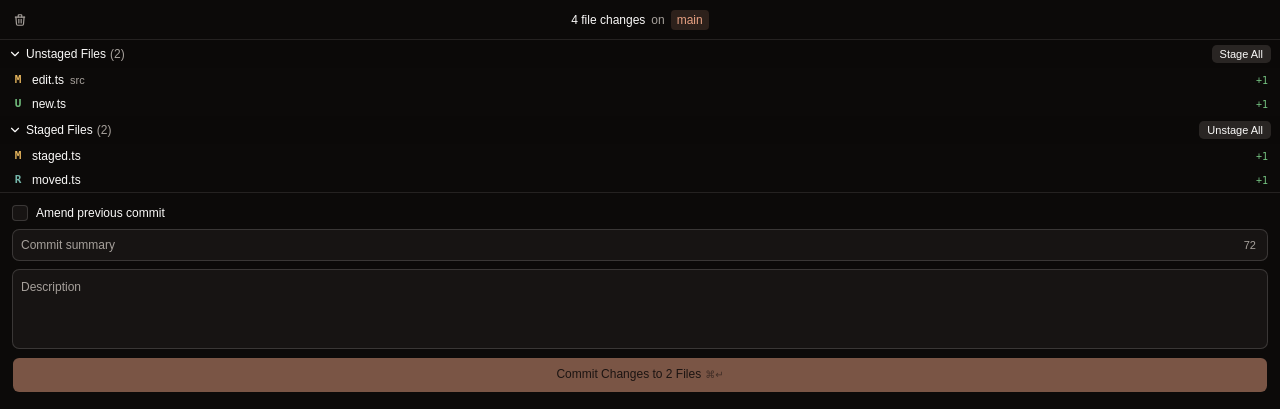
Test case: collapses sections
Click the button "Unstaged Files (2)".
click(66, 54)  # box [8,45,1207,63]
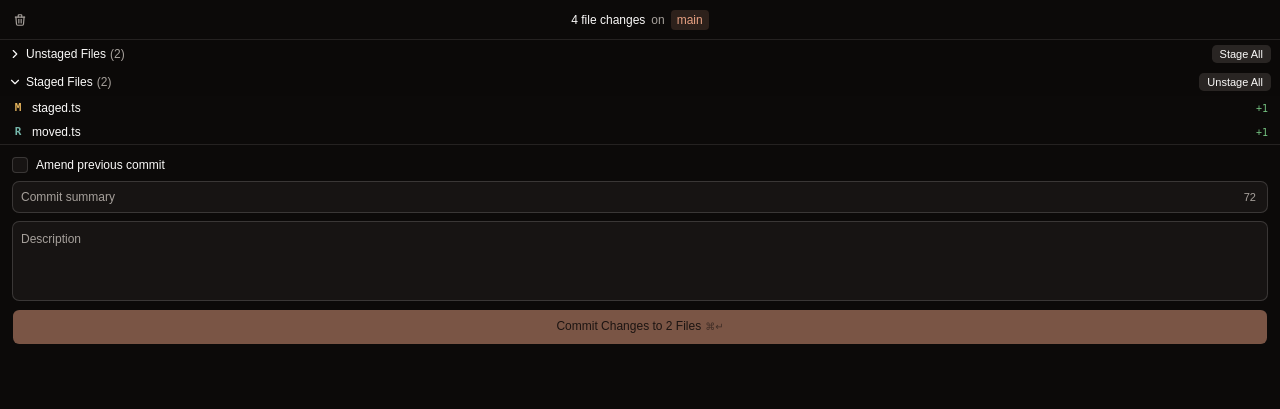
Expected: the option titled "staged.ts" is shown, [15,101,1268,115]
Result: the option titled "src/edit.ts" is gone
